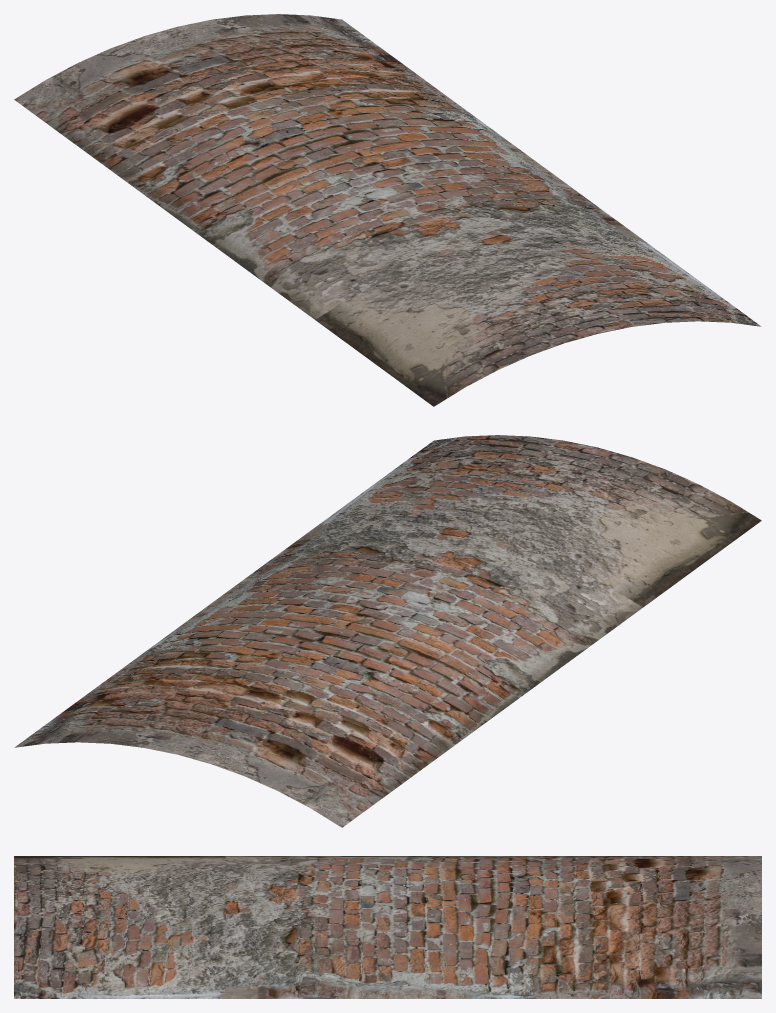
File: SM_ChapelCeiling_01_02.fbx
3 renders of one model, top to bottom at view 1: azimuth 30°, elevation 25°; view 2: azimuth 150°, elevation 25°; view 3: azimuth 270°, elevation 25°, orthographic. The views are drawn at different scales.
Parts seen in each view (by area): view 1: sm_ChapelCeiling_01_02_LOD0; view 2: sm_ChapelCeiling_01_02_LOD0; view 3: sm_ChapelCeiling_01_02_LOD0.
Part boxes in pixels (left/top/right/bottom): sm_ChapelCeiling_01_02_LOD0: left=14, top=14, right=761, bottom=406; sm_ChapelCeiling_01_02_LOD0: left=14, top=435, right=761, bottom=827; sm_ChapelCeiling_01_02_LOD0: left=14, top=856, right=761, bottom=998.
Size of the model in its own units: 550 by 248 by 23.87.
